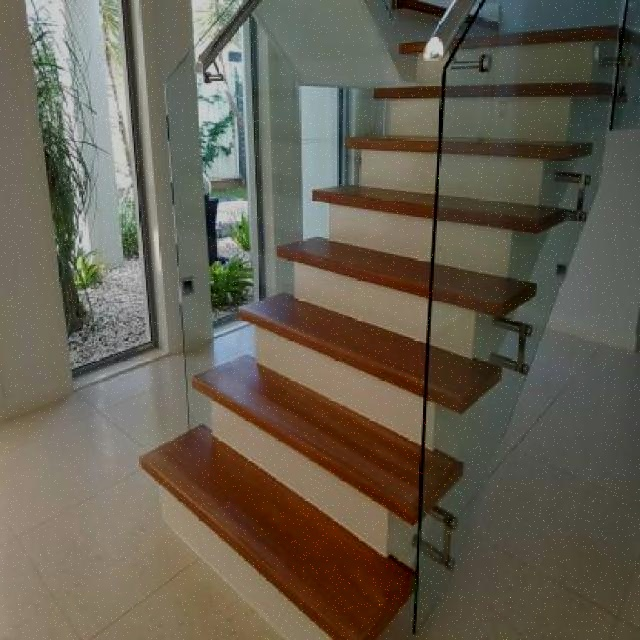stair: (130, 0, 585, 629)
